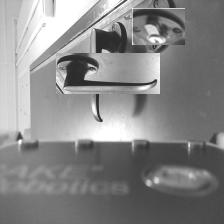Door Handle: (72, 36, 144, 110)
Lock: (136, 4, 181, 49)
